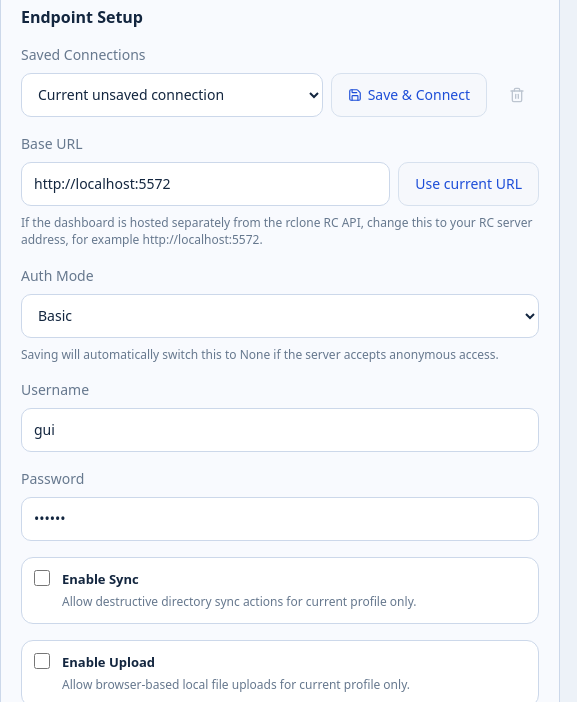
Test: ConnectPage › shows error feedback when validation fails
What coordinates should you click on to do the following:
click the button "Save & Connect"
I would click on:
 (409, 95)
Its box is top-left (331, 73), bottom-right (487, 117).
(page scrolled)
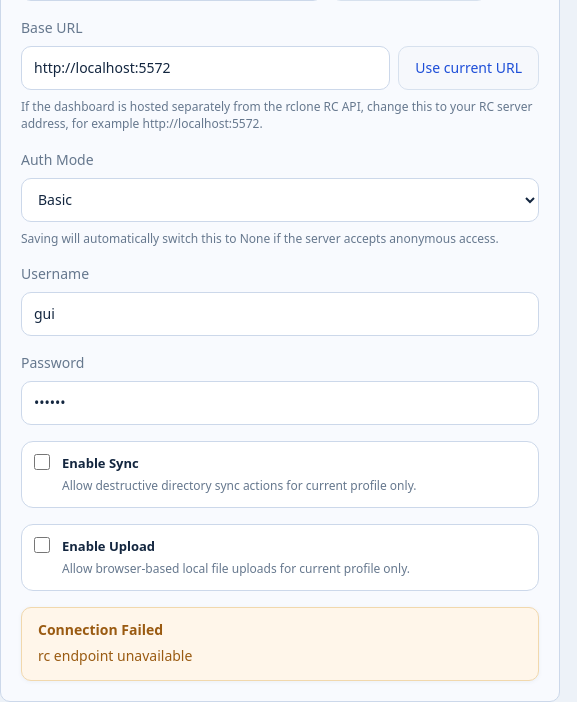
Result: the heading "Connection Failed" is shown at top-left (38, 620), bottom-right (163, 639)
Result: the text "rc endpoint unavailable" is shown at top-left (38, 646), bottom-right (192, 665)
